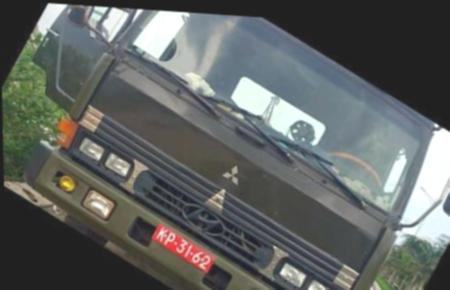License_Plate: (149, 220, 215, 273)
